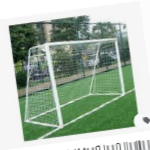goals: (23, 36, 125, 127)
